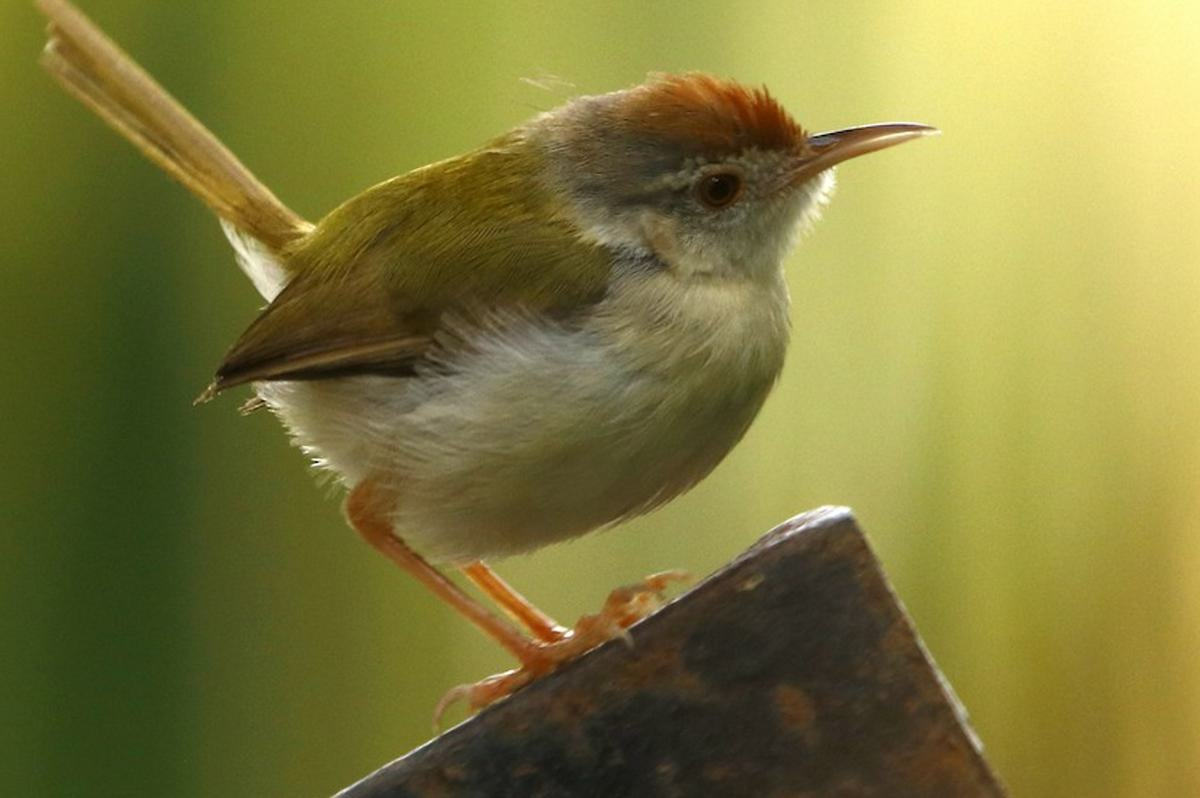tailorbird: (20, 26, 965, 680)
